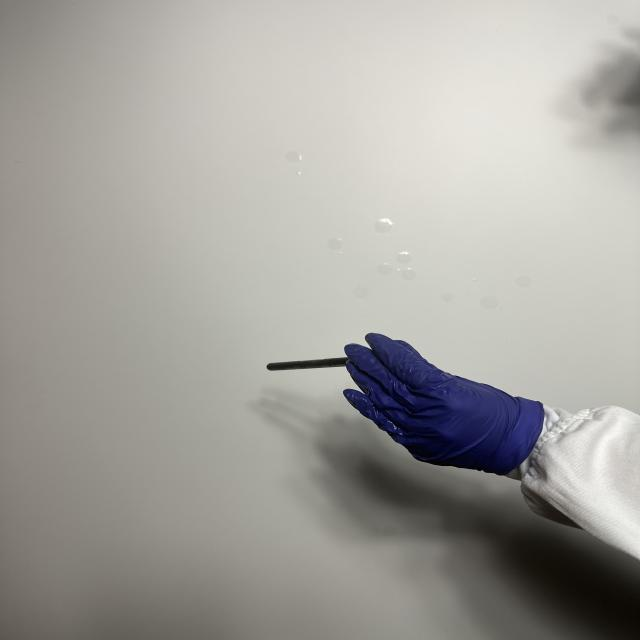gloves_contaminated: (344, 333, 544, 475)
